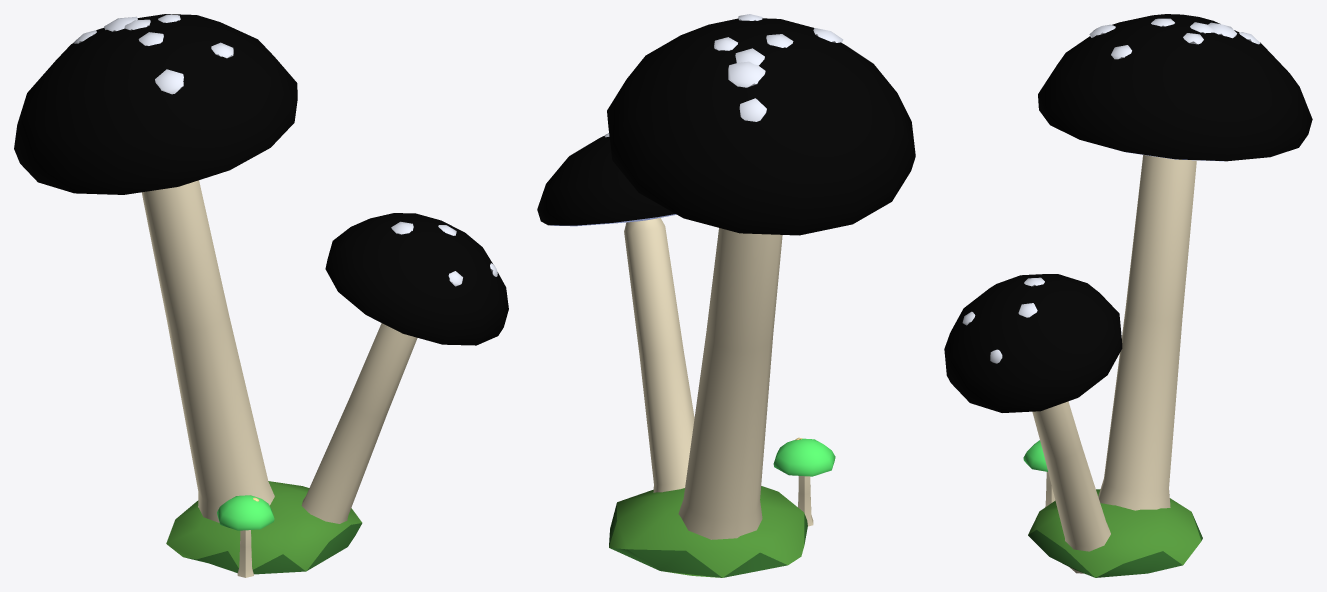
Rendered from GiantShroomB.fbx.
The picture shows the model from 3 angles, left to right: view 1: azimuth 30°, elevation 25°; view 2: azimuth 150°, elevation 25°; view 3: azimuth 270°, elevation 25°; orthographic projection. The views are drawn at different scales.
Parts seen in each view (by area): view 1: GiantShroomB; view 2: GiantShroomB; view 3: GiantShroomB.
Part boxes in pixels (left/top/right/bottom): GiantShroomB: left=14, top=14, right=508, bottom=577; GiantShroomB: left=537, top=14, right=915, bottom=577; GiantShroomB: left=944, top=14, right=1312, bottom=577.
Bounding box in the file's own units: 2.48 × 3.1 × 2.12.
Materials: 2 (2 with a texture image).
